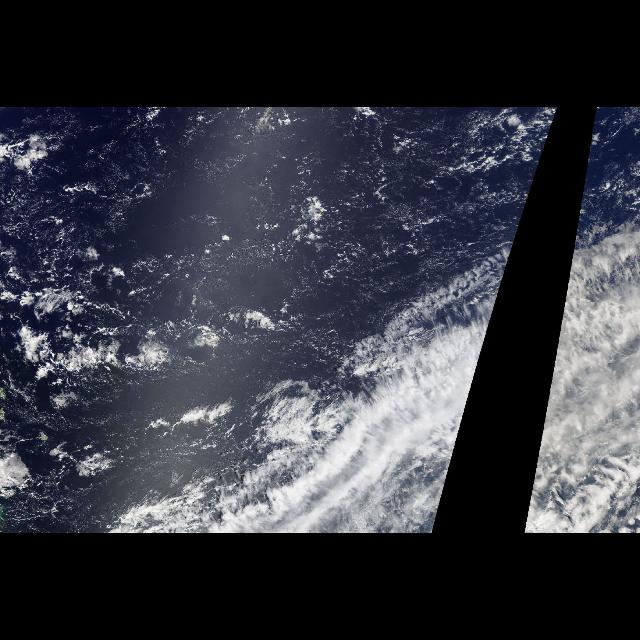Fish: (142, 214, 524, 530), (534, 214, 638, 466)
Gravel: (52, 119, 490, 309)
Sugar: (62, 136, 520, 270)
